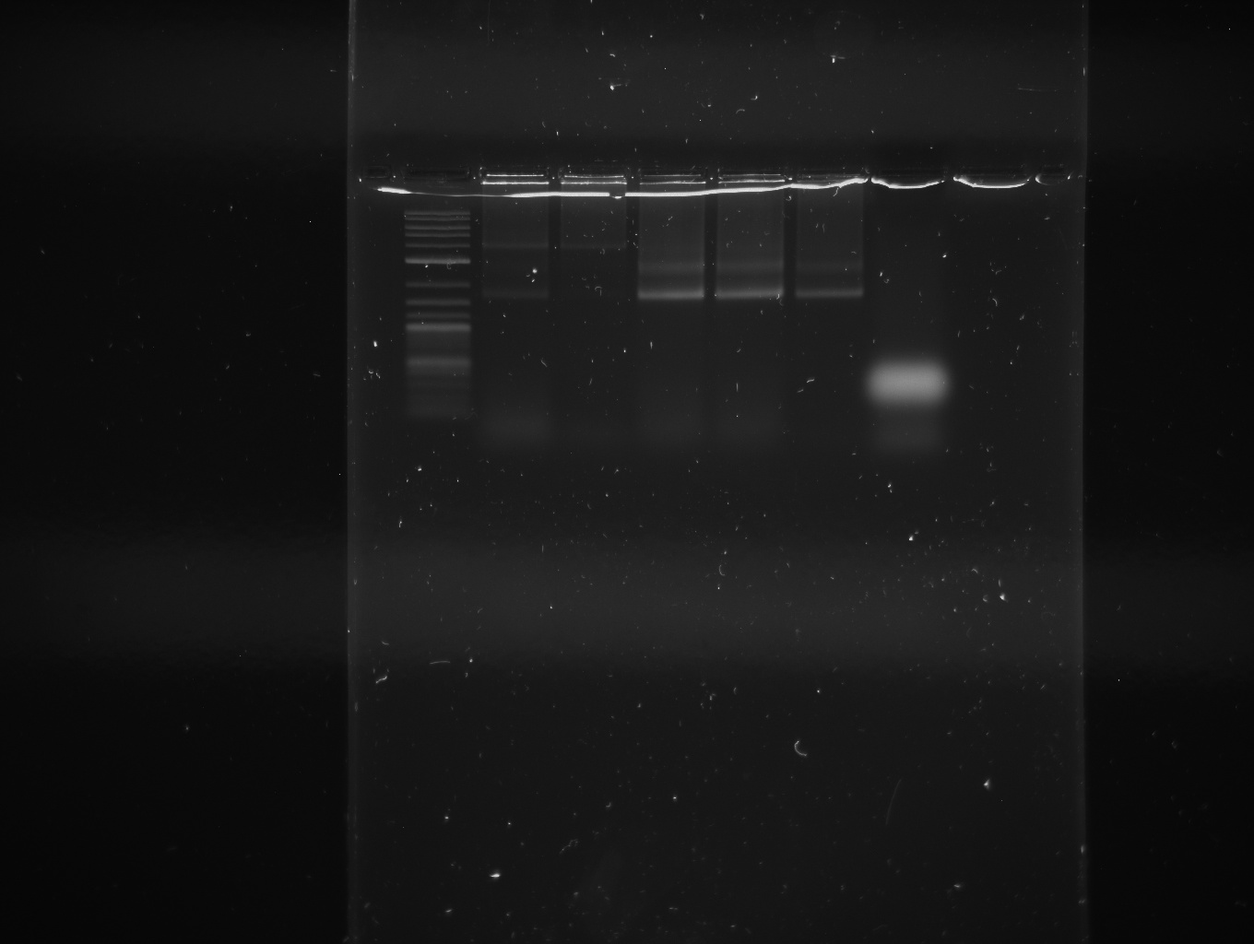Lane: (871, 124, 949, 933), (556, 138, 634, 918), (710, 131, 787, 917), (795, 127, 868, 929), (952, 127, 1022, 935), (482, 131, 552, 921), (639, 136, 704, 903)
ladder: (400, 131, 470, 920)
